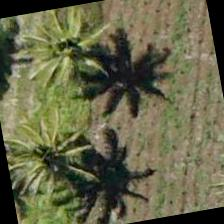Kelapa_Sawit: (13, 1, 116, 100), (0, 103, 97, 207)
